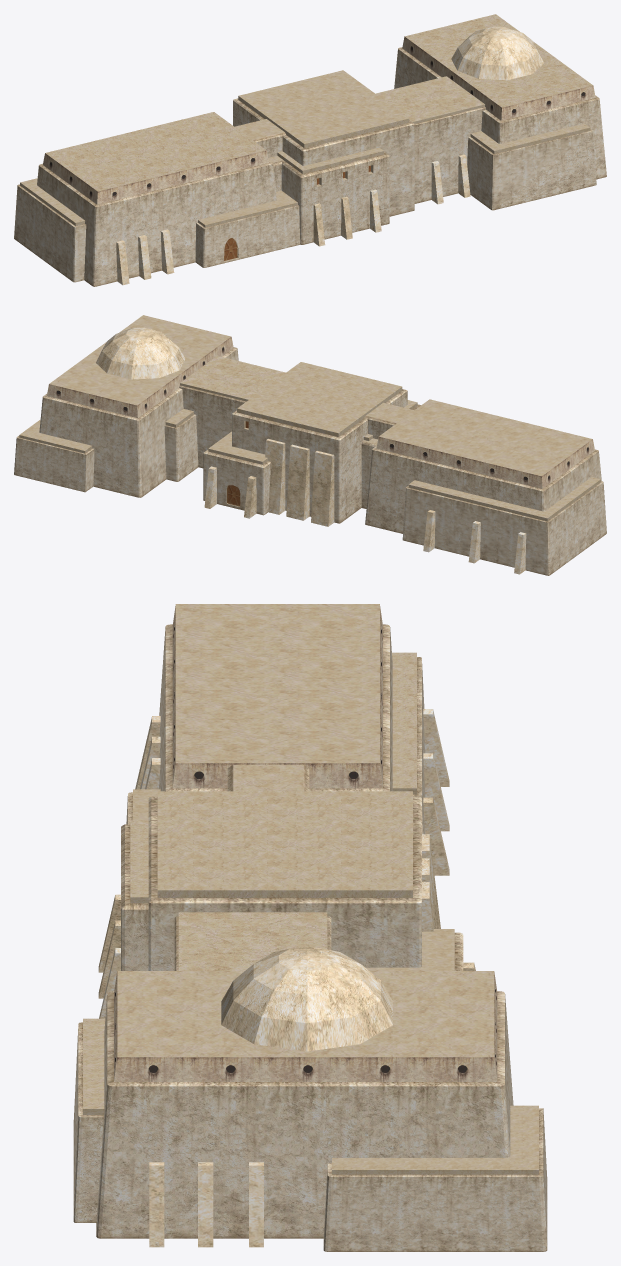
The model's file is thm_tato_block_bldg_64x32_s02_l0.fbx.
3 views of the same model, one above another, from view 1: azimuth 30°, elevation 25°; view 2: azimuth 150°, elevation 25°; view 3: azimuth 270°, elevation 25° (orthographic). The views are drawn at different scales.
Parts seen in each view (by area): view 1: mesh_node; view 2: mesh_node; view 3: mesh_node.
Boxes of the visible parts, x1,y1,x2,y2 form: mesh_node: (14,14,606,286); mesh_node: (14,315,606,575); mesh_node: (73,604,547,1251).
Bounding box in the file's own units: 77.98 × 17.06 × 31.65.
